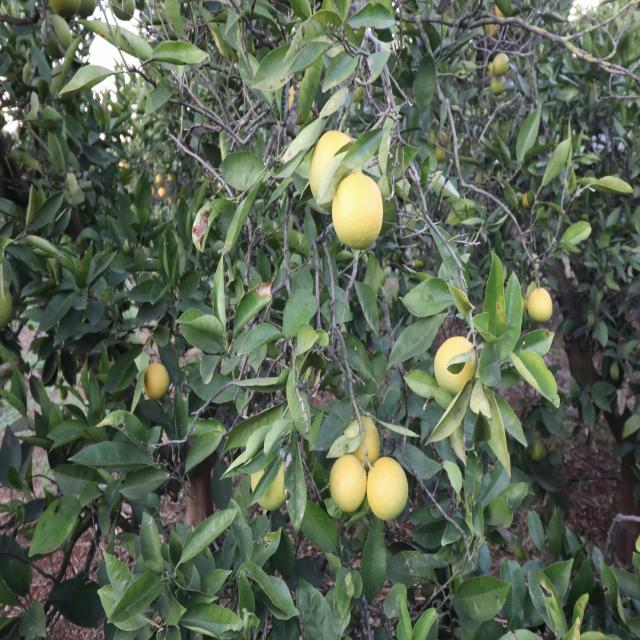Jeruk Belum Matang: (250, 464, 290, 512), (490, 75, 508, 99), (494, 52, 509, 76)
Jeruk Sudah Matang: (309, 132, 362, 210), (332, 172, 384, 250), (433, 336, 477, 397), (436, 334, 478, 397), (341, 416, 382, 474), (368, 458, 406, 520), (332, 453, 366, 512), (141, 360, 171, 400), (528, 288, 554, 323)
